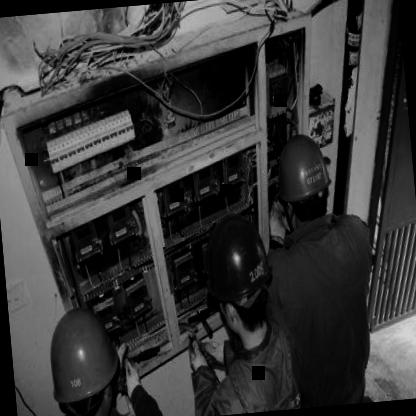helmet: (196, 209, 284, 349), (35, 293, 130, 416), (272, 126, 342, 235)
